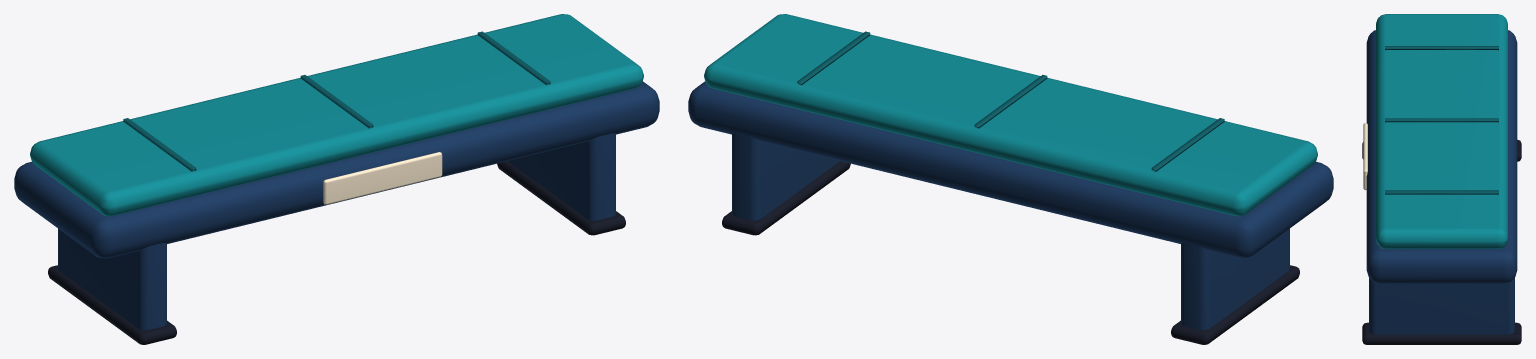
Rendered from aqua_bench.glb.
The picture shows the model from 3 angles, left to right: view 1: azimuth 30°, elevation 25°; view 2: azimuth 150°, elevation 25°; view 3: azimuth 270°, elevation 25°; orthographic projection. The views are drawn at different scales.
Parts seen in each view (by area): view 1: Bench; view 2: Bench; view 3: Bench.
Part boxes in pixels (left/top/right/bottom): Bench: left=14, top=14, right=659, bottom=344; Bench: left=688, top=14, right=1333, bottom=344; Bench: left=1362, top=14, right=1521, bottom=344.
Bounding box in the file's own units: 2.4 × 0.621 × 0.7.
